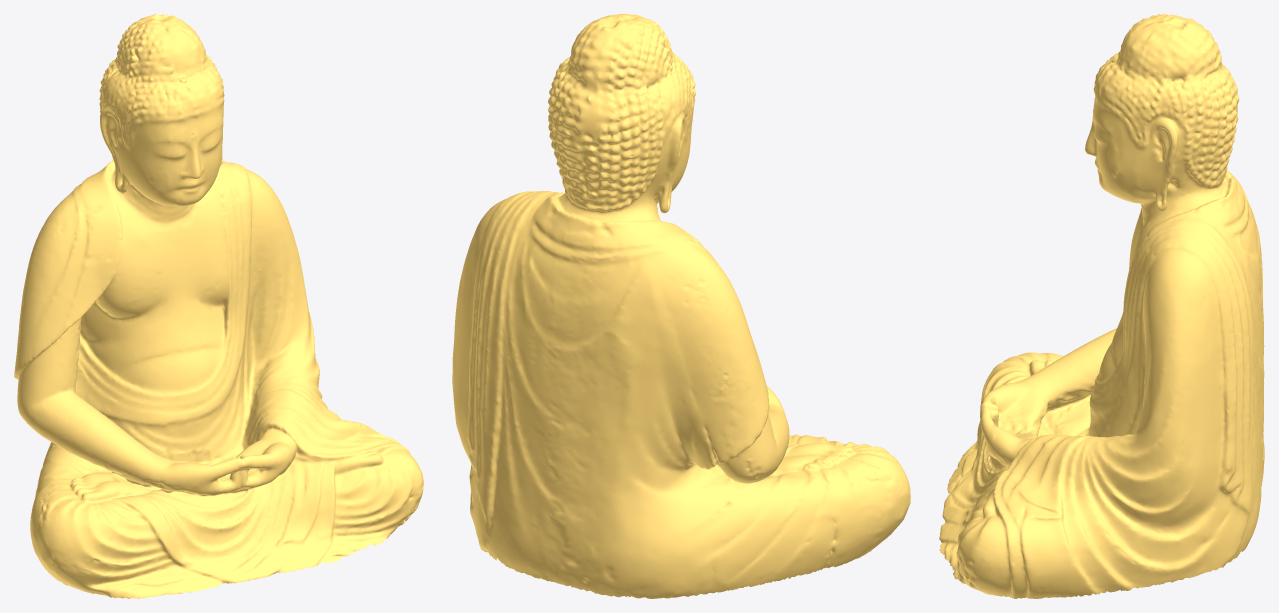
File: amida_polish.glb
3 views of the same model, side by side, from view 1: azimuth 30°, elevation 25°; view 2: azimuth 150°, elevation 25°; view 3: azimuth 270°, elevation 25° (orthographic). The views are drawn at different scales.
Parts seen in each view (by area): view 1: amida_amida00_0; view 2: amida_amida00_0; view 3: amida_amida00_0.
Boxes of the visible parts, x1,y1,x2,y2 form: amida_amida00_0: (14,14,423,598); amida_amida00_0: (452,14,910,598); amida_amida00_0: (939,14,1264,598).
Size of the model in its own units: 0.8319 by 1.05 by 0.62.
